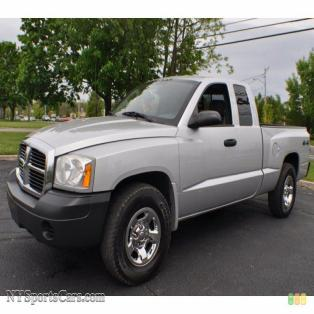Auto: (4, 73, 312, 289)
